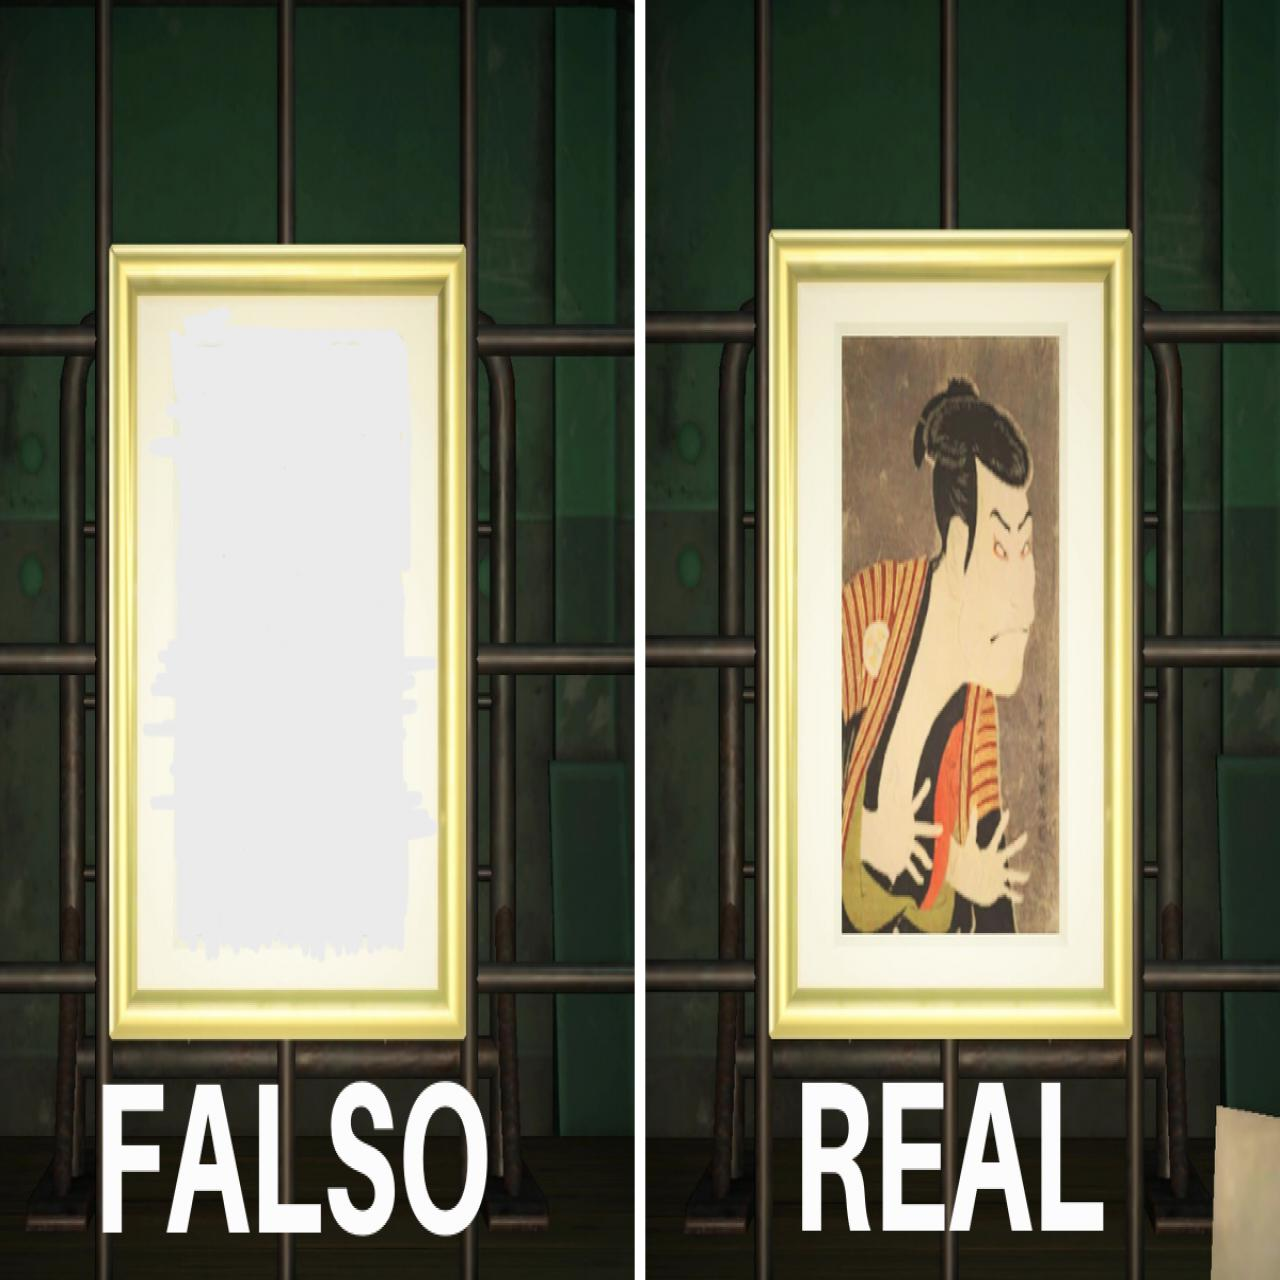OotaniOniji: (845, 338, 1061, 933)
